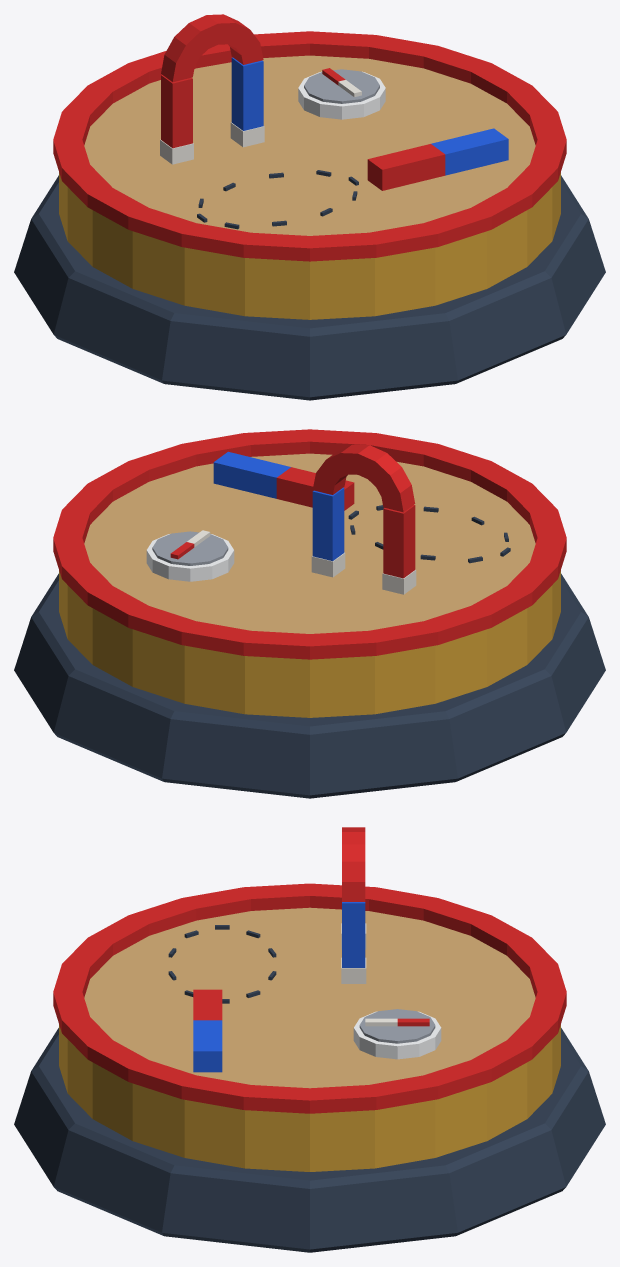
File: stasiun_magnet_v001.glb
The picture shows the model from 3 angles, top to bottom: view 1: azimuth 30°, elevation 25°; view 2: azimuth 150°, elevation 25°; view 3: azimuth 270°, elevation 25°; orthographic projection.
Parts seen in each view (by area): view 1: Stasiun_Magnet; view 2: Stasiun_Magnet; view 3: Stasiun_Magnet.
Part boxes in pixels (x1,y1,x2,y2): Stasiun_Magnet: (14,14,605,400); Stasiun_Magnet: (14,429,605,798); Stasiun_Magnet: (14,827,605,1252).
Bounding box in the file's own units: 2.03 × 0.985 × 2.03.
